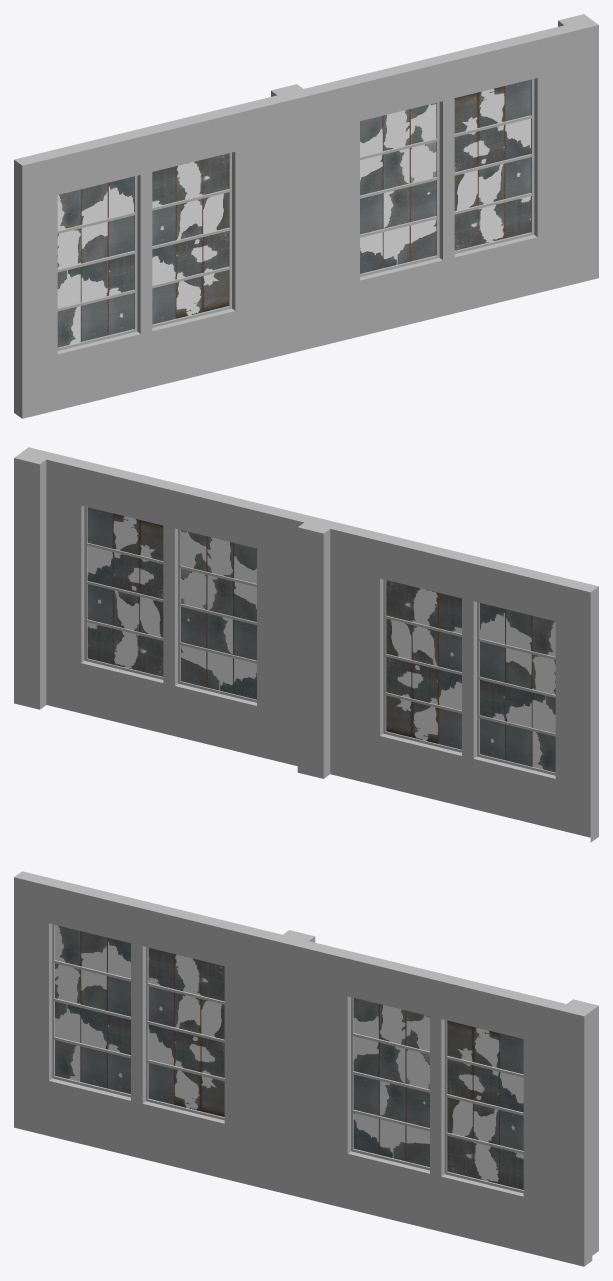
The model's file is Factory2Wall04.FBX.
The picture shows the model from 3 angles, top to bottom: view 1: azimuth 30°, elevation 25°; view 2: azimuth 150°, elevation 25°; view 3: azimuth 330°, elevation 25°; orthographic projection.
Parts seen in each view (by area): view 1: Factory2Wall04, Factory2Wall04Glass; view 2: Factory2Wall04, Factory2Wall04Glass; view 3: Factory2Wall04, Factory2Wall04Glass.
Boxes of the visible parts, x1,y1,x2,y2 form: Factory2Wall04: (14, 14, 598, 418); Factory2Wall04Glass: (57, 79, 530, 347); Factory2Wall04: (14, 447, 598, 842); Factory2Wall04Glass: (87, 507, 555, 772); Factory2Wall04: (14, 871, 598, 1266); Factory2Wall04Glass: (55, 925, 523, 1189).
Size of the model in its own units: 1200 by 503 by 53.83.
